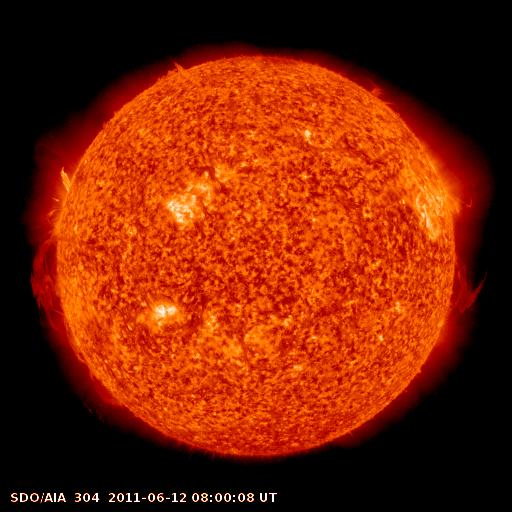prominence: (27, 237, 141, 419), (440, 248, 490, 323), (49, 159, 81, 215), (359, 74, 401, 112)
